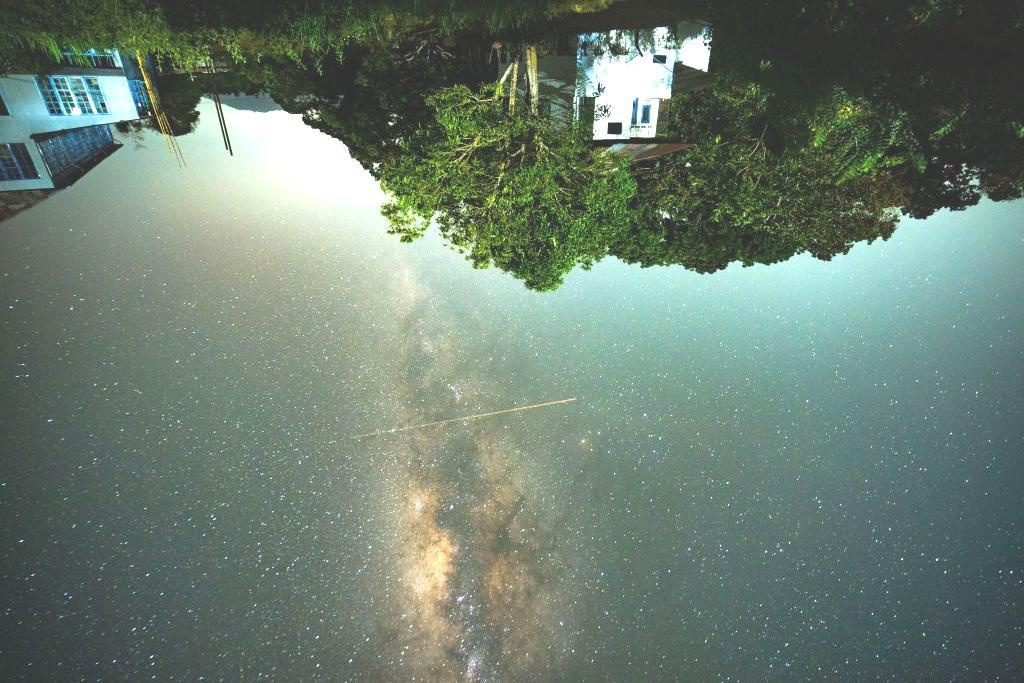meteorite: (452, 393, 587, 428)
